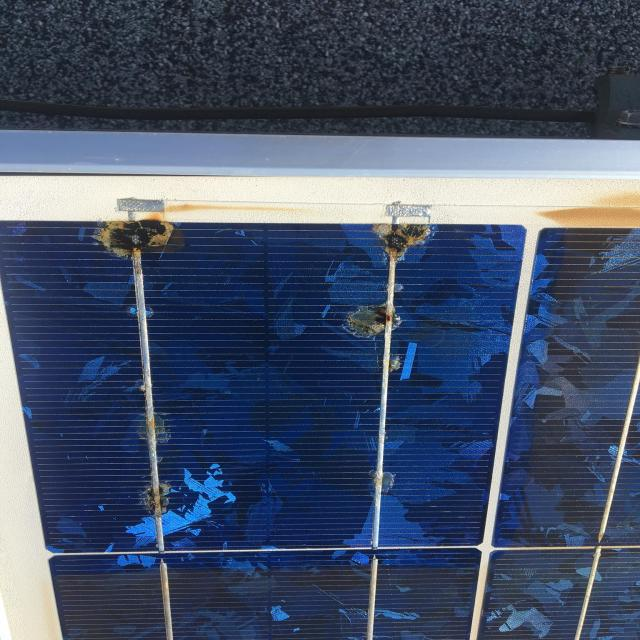dust-solar-panel: (0, 216, 640, 640)
